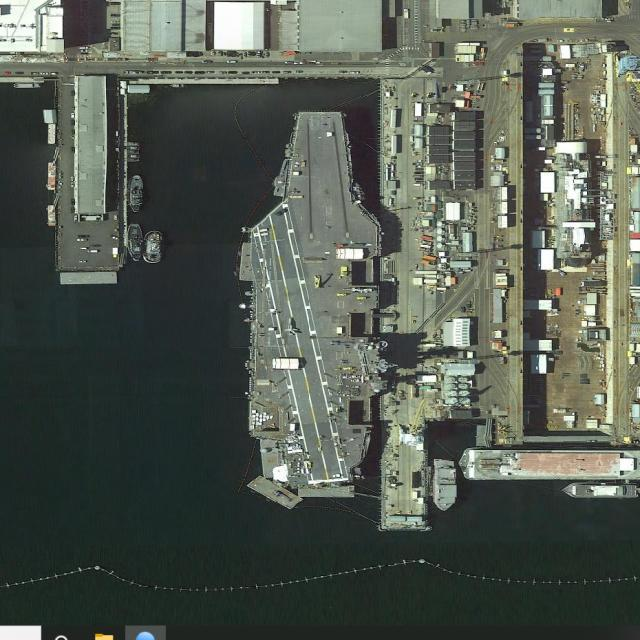Aircraft Carrier: (249, 111, 378, 484)
Dock: (56, 79, 122, 271)
Hovercraft: (144, 230, 162, 264)
Other Ship: (557, 481, 637, 499), (129, 175, 145, 215), (128, 224, 143, 263)
Other Warship: (434, 460, 458, 511)
